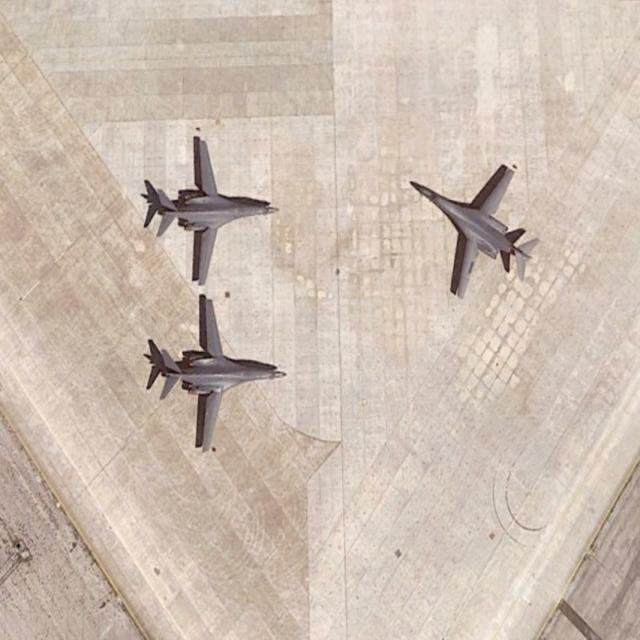MIL_Plane: (156, 174, 280, 250), (420, 198, 540, 268), (191, 331, 255, 421)
